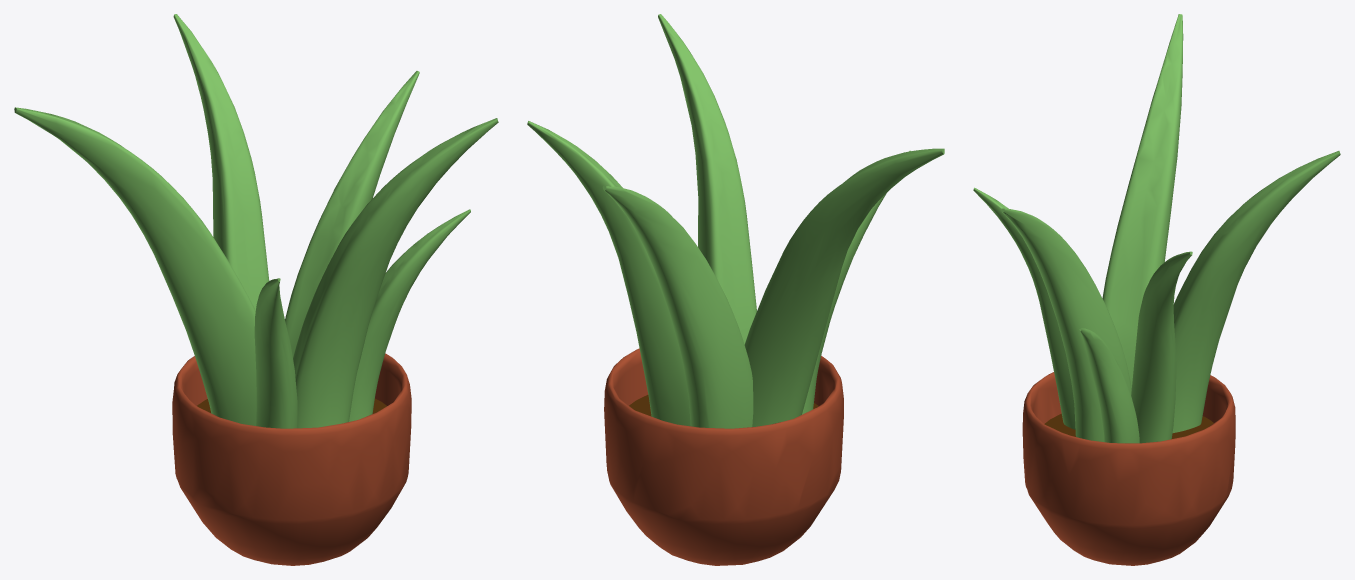
File: plant.glb
The picture shows the model from 3 angles, left to right: view 1: azimuth 30°, elevation 25°; view 2: azimuth 150°, elevation 25°; view 3: azimuth 270°, elevation 25°; orthographic projection. The views are drawn at different scales.
Parts seen in each view (by area): view 1: Vert.001, NurbsPath.009, NurbsPath.008, NurbsPath.010, NurbsPath.011, NurbsPath.006, NurbsPath.007; view 2: Vert.001, NurbsPath.009, NurbsPath.010, NurbsPath.008, NurbsPath.011, NurbsPath.007; view 3: Vert.001, NurbsPath.009, NurbsPath.010, NurbsPath.008, NurbsPath.011, NurbsPath.006, NurbsPath.007, Circle.001.
Boxes of the visible parts, left/top/right/bottom form: Vert.001: left=172, top=353, right=411, bottom=565; NurbsPath.009: left=14, top=107, right=256, bottom=425; NurbsPath.008: left=293, top=118, right=498, bottom=428; NurbsPath.010: left=173, top=14, right=269, bottom=310; NurbsPath.011: left=285, top=71, right=419, bottom=357; NurbsPath.006: left=349, top=209, right=470, bottom=421; NurbsPath.007: left=254, top=278, right=297, bottom=428; Vert.001: left=604, top=348, right=843, bottom=565; NurbsPath.009: left=744, top=148, right=944, bottom=426; NurbsPath.010: left=602, top=186, right=753, bottom=428; NurbsPath.008: left=658, top=14, right=756, bottom=344; NurbsPath.011: left=527, top=121, right=690, bottom=426; NurbsPath.007: left=802, top=150, right=910, bottom=414; Vert.001: left=1022, top=372, right=1235, bottom=565; NurbsPath.009: left=1102, top=14, right=1183, bottom=387; NurbsPath.010: left=1172, top=151, right=1340, bottom=432; NurbsPath.008: left=1001, top=208, right=1131, bottom=442; NurbsPath.011: left=1131, top=251, right=1192, bottom=443; NurbsPath.006: left=1079, top=328, right=1139, bottom=443; NurbsPath.007: left=973, top=187, right=1075, bottom=429; Circle.001: left=1044, top=413, right=1213, bottom=438.
Bounding box in the file's own units: 2.01 × 2.25 × 1.75.
